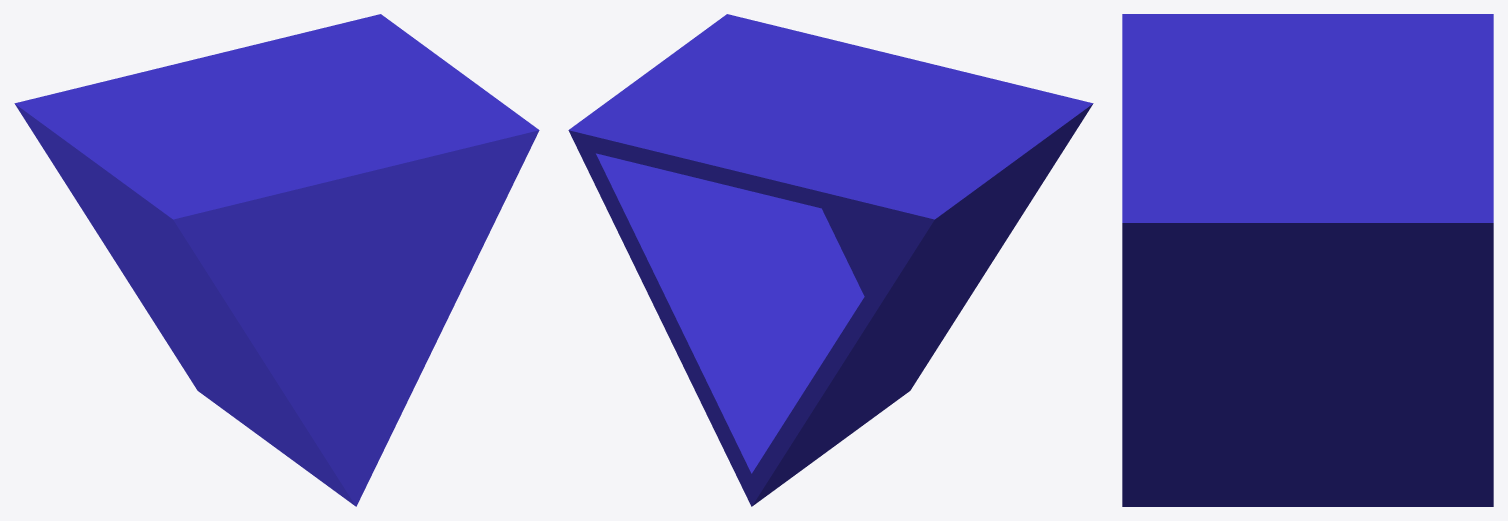
Rendered from ball-slider-indicator.dae.
3 renders of one model, left to right at view 1: azimuth 30°, elevation 25°; view 2: azimuth 150°, elevation 25°; view 3: azimuth 270°, elevation 25°, orthographic. The views are drawn at different scales.
Visible parts, largest first — view 1: direction; view 2: direction; view 3: direction.
Part boxes in pixels (bbox=[...]): direction: bbox=[14, 14, 539, 506]; direction: bbox=[568, 14, 1093, 506]; direction: bbox=[1122, 14, 1493, 506].
Size of the model in its own units: 8.66 by 6.5 by 7.5.
